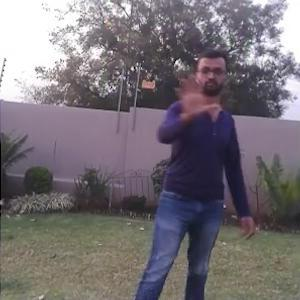follow_hand: (172, 68, 219, 117)
